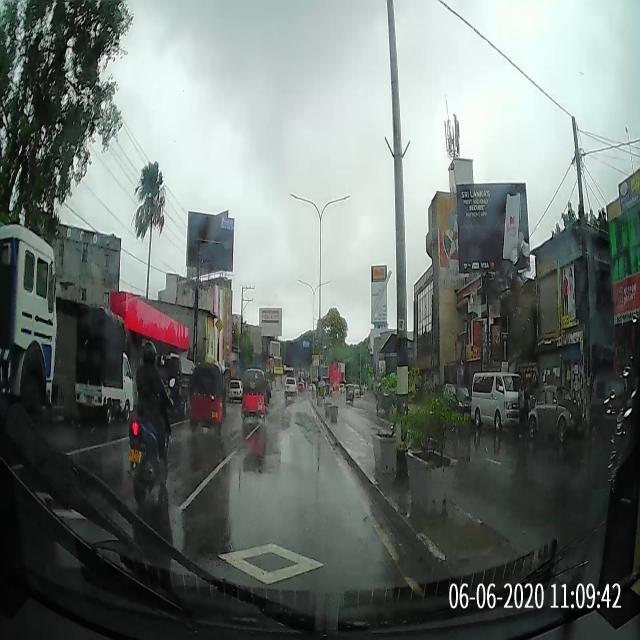diamond: (176, 506, 429, 604)
